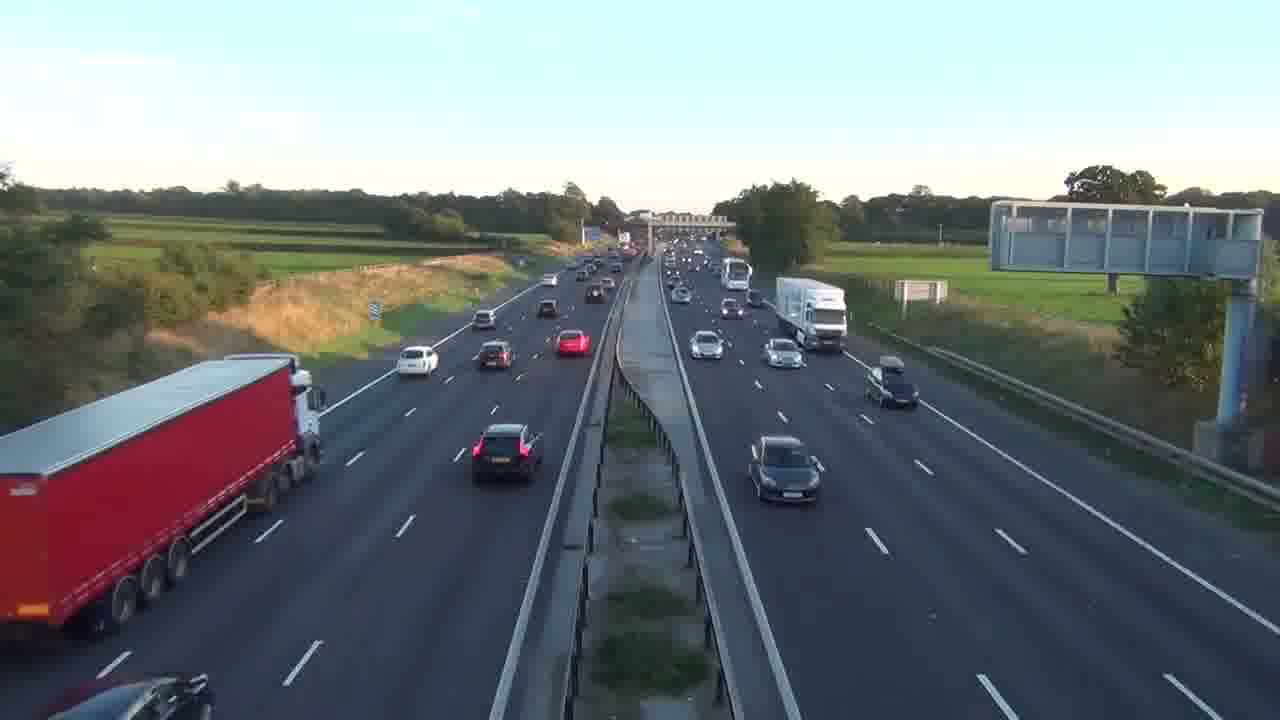car: (747, 433, 825, 505), (471, 422, 545, 483), (762, 337, 807, 369), (396, 344, 439, 377), (476, 339, 514, 369), (689, 329, 725, 360), (555, 328, 592, 358)
truck: (1, 353, 323, 642), (776, 276, 849, 353), (721, 258, 753, 292)
